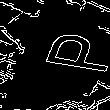P_W: (9, 30, 101, 80)
